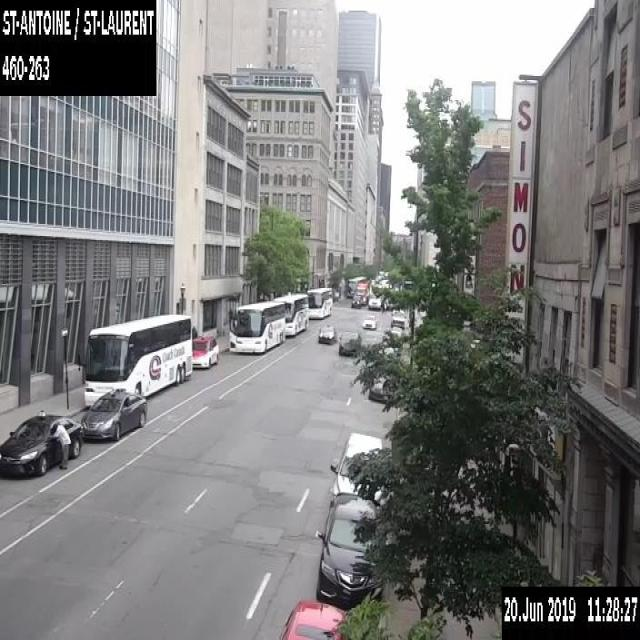bus: (84, 314, 192, 406), (228, 300, 284, 352), (272, 292, 308, 336), (306, 286, 332, 318), (346, 275, 366, 297)
pedestrian: (50, 422, 71, 469), (380, 298, 384, 314)
vehicle: (314, 490, 385, 602), (0, 411, 83, 477), (328, 432, 385, 502), (80, 388, 147, 441), (278, 596, 350, 639), (191, 335, 218, 368), (338, 331, 361, 356), (367, 376, 384, 401), (354, 280, 369, 304), (318, 324, 336, 343), (390, 308, 405, 329), (367, 294, 381, 308), (362, 314, 376, 328), (351, 294, 361, 308), (382, 297, 392, 309)
